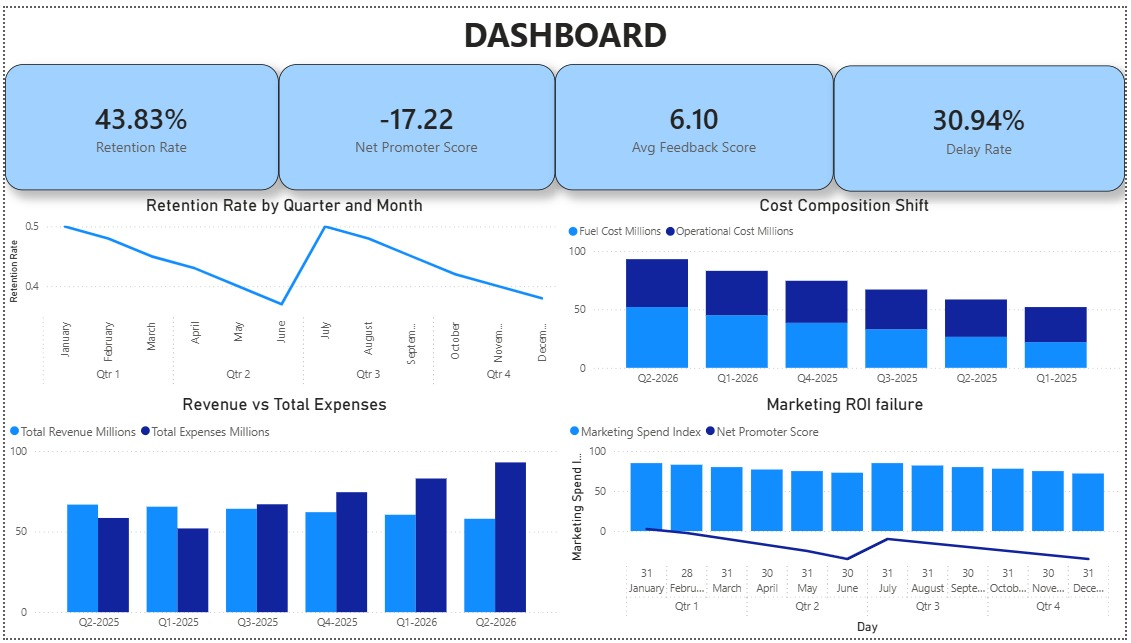

This screenshot's page, from the dashboard's own definition file:
{"tool":"powerbi","page":{"name":"home","canvas":[1280,720],"ordinal":0},"visuals":[{"type":"cardVisual","fields":{"Data":["Avg(customerexp.Retention_Rate)"]},"box":[0,64.3,312.9,144.3],"z":0,"group":"g1"},{"type":"textbox","box":[0,0,1280,67.1],"z":1000},{"type":"cardVisual","fields":{"Data":["Avg(customerexp.Net_Promoter_Score)"]},"box":[312.9,64.3,315.7,144.3],"z":2000,"group":"g1"},{"type":"cardVisual","fields":{"Data":["Avg(customerexp.Avg_Feedback_Score)"]},"box":[628.6,63.9,318.6,144.3],"z":3000,"group":"g1"},{"type":"cardVisual","fields":{"Data":["Avg(monthlyop.Delay_Rate)"]},"box":[947.1,65.3,332.9,144.3],"z":4000,"group":"g1"},{"type":"lineChart","fields":{"Category":["customerexp.Date.Variation.Date Hierarchy.Quarter","customerexp.Date.Variation.Date Hierarchy.Month"],"Y":["Avg(customerexp.Retention_Rate)"]},"box":[0,214.3,638.6,227.1],"z":5000},{"type":"lineClusteredColumnComboChart","title":"Marketing ROI failure","fields":{"Y":["Avg(customerexp.Marketing_Spend_Index)"],"Y2":["Avg(customerexp.Net_Promoter_Score)"],"Category":["customerexp.Date.Variation.Date Hierarchy.Quarter","customerexp.Date.Variation.Date Hierarchy.Month","customerexp.Date.Variation.Date Hierarchy.Day"]},"box":[640,441.4,640,278.6],"z":7000},{"type":"clusteredColumnChart","title":"Revenue vs Total Expenses","fields":{"Y":["Sum(Quarterly fin.Total_Revenue_Millions)","Sum(Quarterly fin.Total_Expenses_Millions)"],"Category":["Quarterly fin.Quarter"]},"box":[0,441,639,279],"z":7001},{"type":"columnChart","title":"Cost Composition Shift","fields":{"Y":["Sum(Quarterly fin.Fuel_Cost_Millions)","Sum(Quarterly fin.Operational_Cost_Millions)"],"Category":["Quarterly fin.Quarter"]},"box":[638.6,214.3,641.4,227.1],"z":7002},{"type":"group","id":"g1","title":"Group 1","box":[0,63.9,1280,145.7],"z":7003}]}

Visuals, with their boxes in screenshot pixels (x1, y1, x2, y2), scaled from the page's 1280x720 canvas onto the 1131x643 screenshot:
cardVisual - Avg(customerexp.Retention_Rate): 0 57 276 186
textbox: 0 0 1130 60
cardVisual - Avg(customerexp.Net_Promoter_Score): 276 57 555 186
cardVisual - Avg(customerexp.Avg_Feedback_Score): 555 57 837 186
cardVisual - Avg(monthlyop.Delay_Rate): 837 58 1130 187
lineChart - customerexp.Date.Variation.Date Hierarchy.Quarter x customerexp.Date.Variation.Date Hierarchy.Month: 0 191 564 394
"Marketing ROI failure" lineClusteredColumnComboChart: 566 394 1130 642
"Revenue vs Total Expenses" clusteredColumnChart: 0 394 565 642
"Cost Composition Shift" columnChart: 564 191 1130 394
"Group 1" group: 0 57 1130 187
